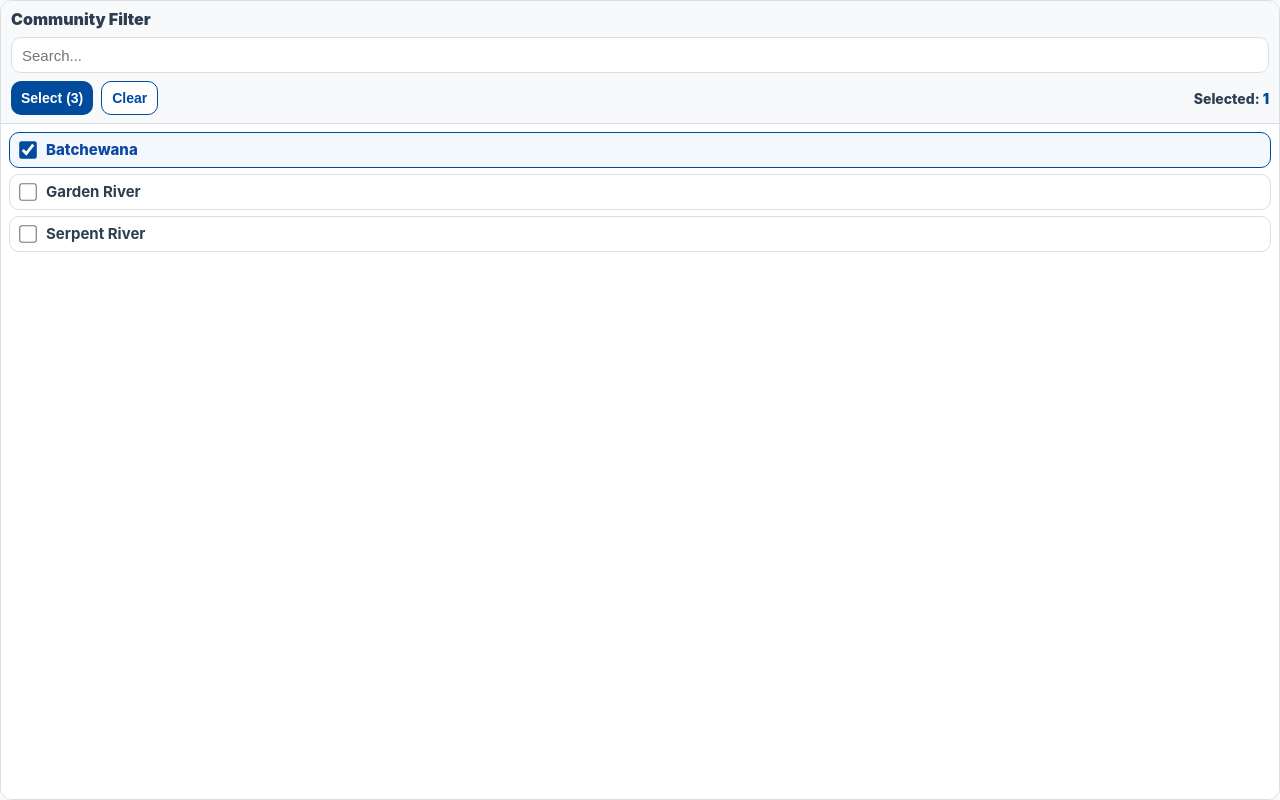
Scenario: CommunityFilter › Select visible communities merges/dedupes with existing selection
Type "river" into the field named "Search communities".
click(640, 55); type("river")  # box [11,37,1269,73]
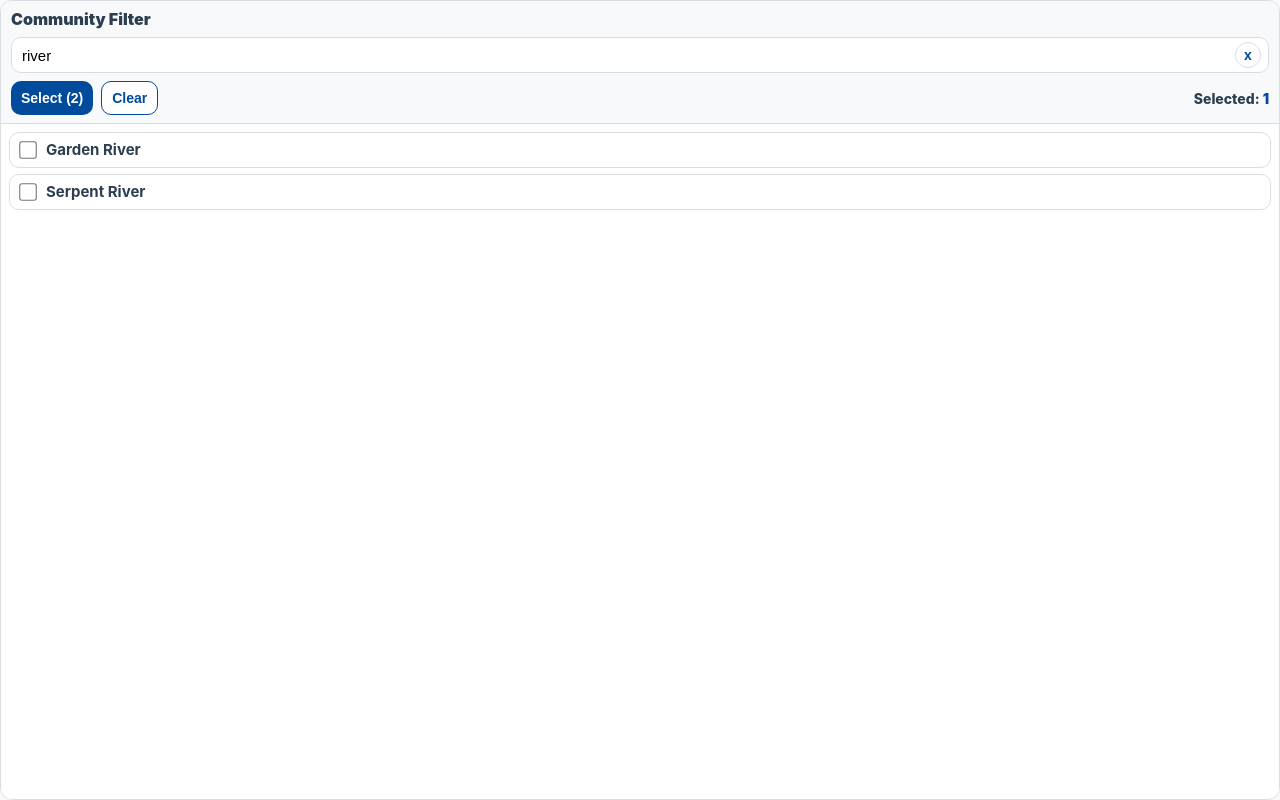
Click the button with aria-label "Select visible communities (2)".
click(52, 98)  # box [11,81,93,115]
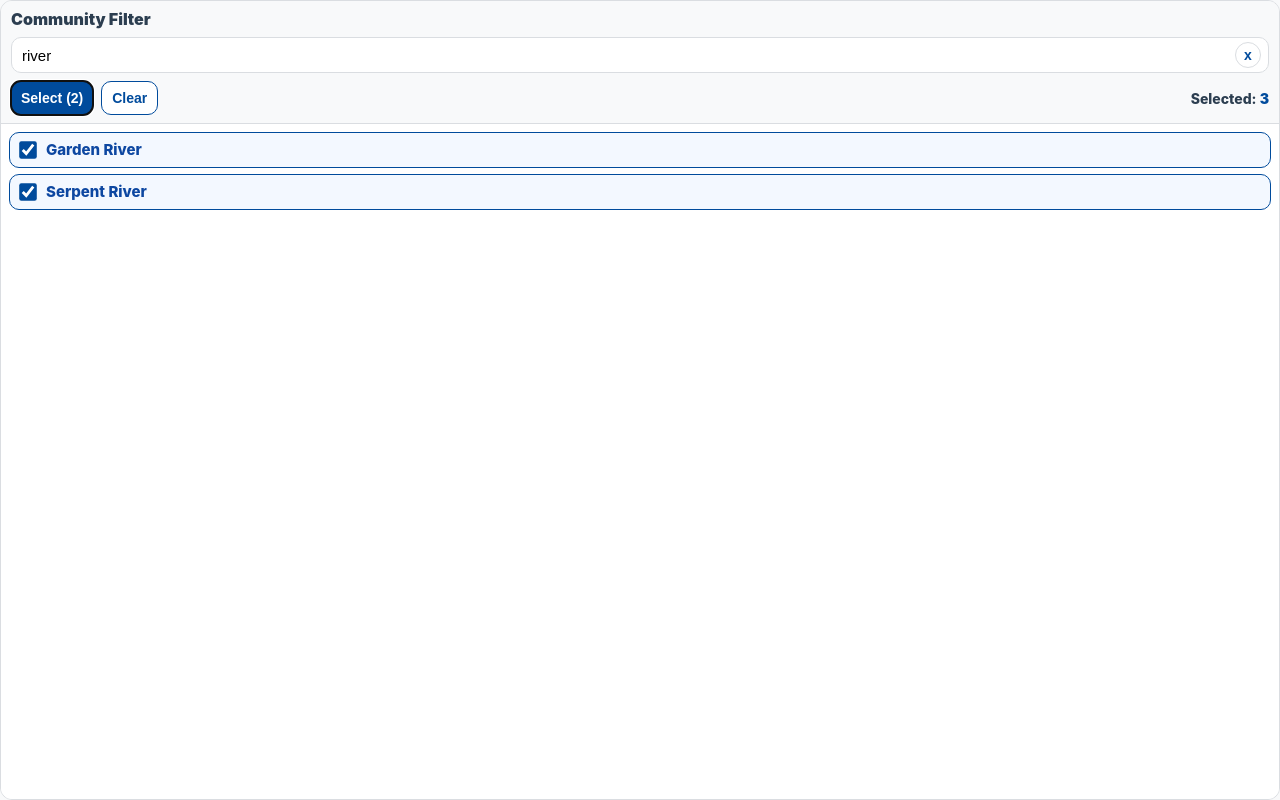
Expected: the element named "Selected count 3" is shown, [1191,90,1269,106]
Expected: the checkbox labelled "Garden River" is checked, [19,141,37,159]
Expected: the checkbox labelled "Serpent River" is checked, [19,183,37,201]
